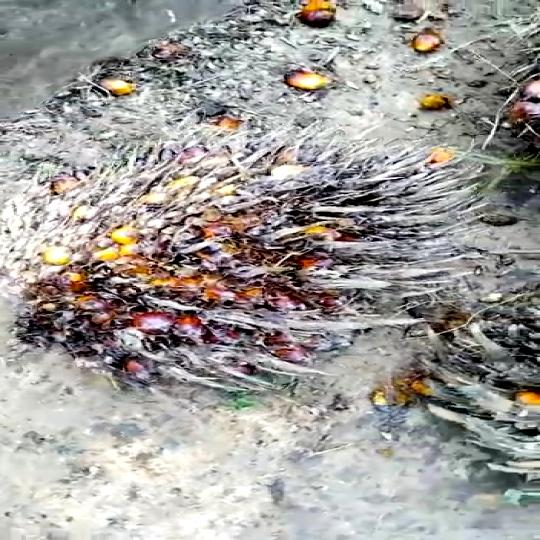terlalu masak: (7, 107, 515, 415)
